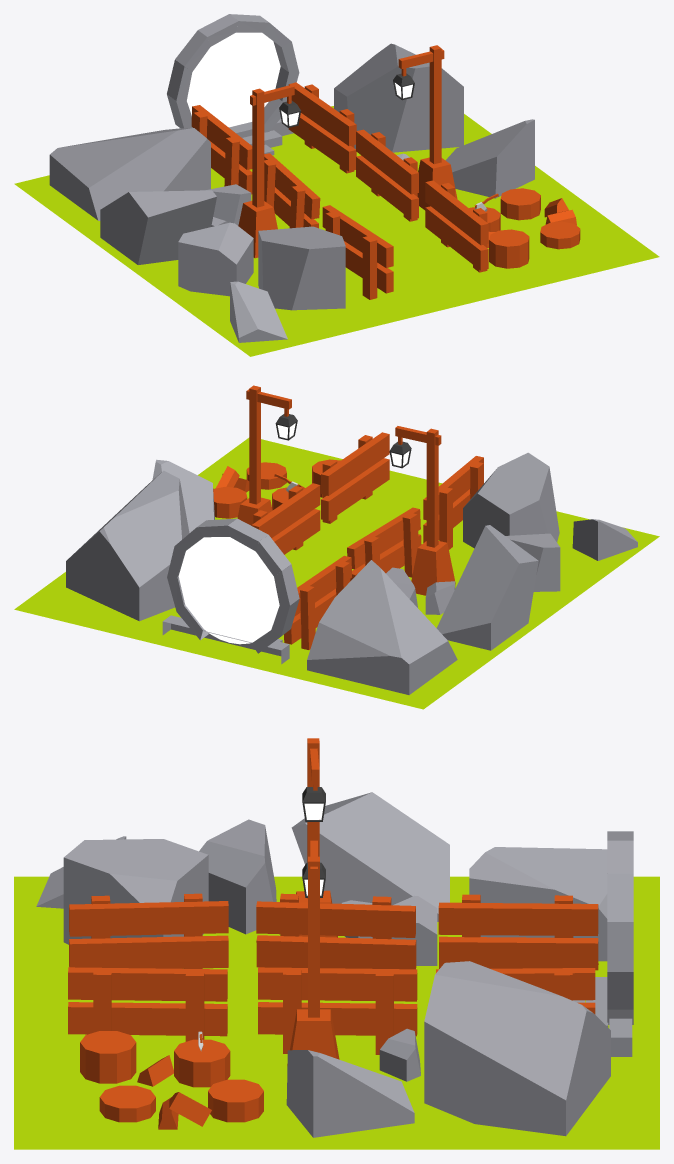
File: portal1.glb
3 views of the same model, one above another, from view 1: azimuth 30°, elevation 25°; view 2: azimuth 150°, elevation 25°; view 3: azimuth 270°, elevation 25° (orthographic). The views are drawn at different scales.
Visible parts, largest first — view 1: Plane, 立方体.010, 立方体.009, 立方体.008, 立方体.013, portalLight, 立方体.006, 立方体.007, Cube.002, Cube.003, Cube.001, Cube.006 (+15 smaller); view 2: Plane, 立方体.010, 立方体.009, portalLight, 立方体.013, 立方体.008, Cube.002, 立方体.003, Cube.007, Cube.003, Cube.004, Cube.006 (+14 smaller); view 3: Plane, 立方体.009, 立方体.013, Cube.006, Cube.002, Cube.004, Cube.007, Cube.003, 立方体.008, 立方体.010, 立方体.006, 立方体.007 (+18 smaller).
Part boxes in pixels (x1=…): Plane: x1=14, y1=106, x2=659, y2=356; 立方体.010: x1=49, y1=128, x2=210, y2=220; 立方体.009: x1=334, y1=43, x2=463, y2=152; 立方体.008: x1=258, y1=226, x2=345, y2=310; 立方体.013: x1=100, y1=190, x2=216, y2=264; portalLight: x1=187, y1=32, x2=280, y2=127; 立方体.006: x1=445, y1=119, x2=534, y2=198; 立方体.007: x1=178, y1=222, x2=253, y2=296; Cube.002: x1=425, y1=180, x2=488, y2=272; Cube.003: x1=356, y1=129, x2=418, y2=221; Cube.001: x1=288, y1=82, x2=356, y2=173; Cube.006: x1=322, y1=205, x2=393, y2=299; Plane: x1=14, y1=437, x2=659, y2=709; 立方体.010: x1=307, y1=560, x2=457, y2=694; 立方体.009: x1=66, y1=470, x2=189, y2=621; portalLight: x1=178, y1=537, x2=279, y2=644; 立方体.013: x1=436, y1=525, x2=538, y2=650; 立方体.008: x1=463, y1=452, x2=559, y2=548; Cube.002: x1=321, y1=432, x2=389, y2=523; 立方体.003: x1=395, y1=426, x2=455, y2=595; Cube.007: x1=347, y1=507, x2=421, y2=580; Cube.003: x1=251, y1=483, x2=320, y2=554; Cube.004: x1=284, y1=555, x2=351, y2=649; Cube.006: x1=423, y1=456, x2=483, y2=549; Plane: x1=14, y1=876, x2=659, y2=1149; 立方体.009: x1=424, y1=961, x2=610, y2=1136; 立方体.013: x1=291, y1=792, x2=449, y2=921; Cube.006: x1=69, y1=893, x2=228, y2=968; Cube.002: x1=68, y1=967, x2=227, y2=1041; Cube.004: x1=438, y1=894, x2=598, y2=970; Cube.007: x1=256, y1=893, x2=416, y2=969; Cube.003: x1=258, y1=967, x2=417, y2=1054; 立方体.008: x1=63, y1=839, x2=208, y2=944; 立方体.010: x1=469, y1=847, x2=607, y2=961; 立方体.006: x1=286, y1=1050, x2=414, y2=1137; 立方体.007: x1=199, y1=819, x2=276, y2=934.
Bounding box in the file's own units: 4 × 1.47 × 4.
